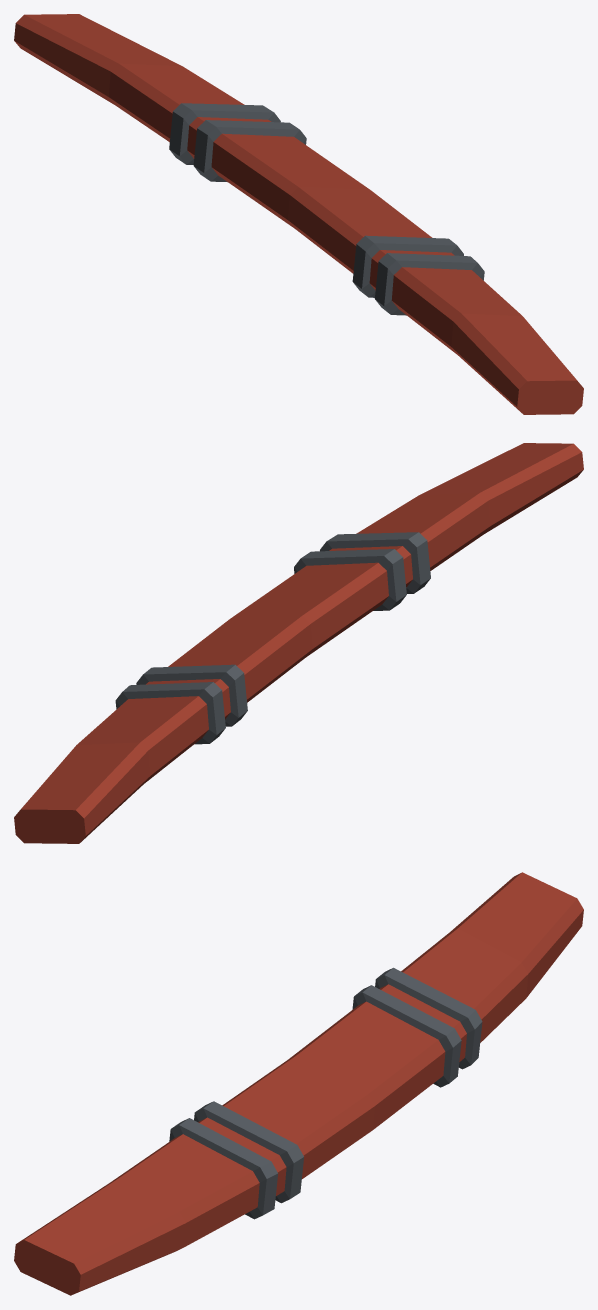
The model's file is Mothership_02_Glider_Right_Red.fbx.
3 renders of one model, top to bottom at view 1: azimuth 30°, elevation 25°; view 2: azimuth 150°, elevation 25°; view 3: azimuth 330°, elevation 25°, orthographic.
Visible parts, largest first — view 1: Mothership_02_Glider_Right_Red; view 2: Mothership_02_Glider_Right_Red; view 3: Mothership_02_Glider_Right_Red.
Part boxes in pixels (x1=…): Mothership_02_Glider_Right_Red: x1=14, y1=14, x2=583, y2=414; Mothership_02_Glider_Right_Red: x1=14, y1=443, x2=583, y2=843; Mothership_02_Glider_Right_Red: x1=14, y1=872, x2=583, y2=1295.
Size of the model in its own units: 292 by 182 by 2166.
1 material, 1 textured.
